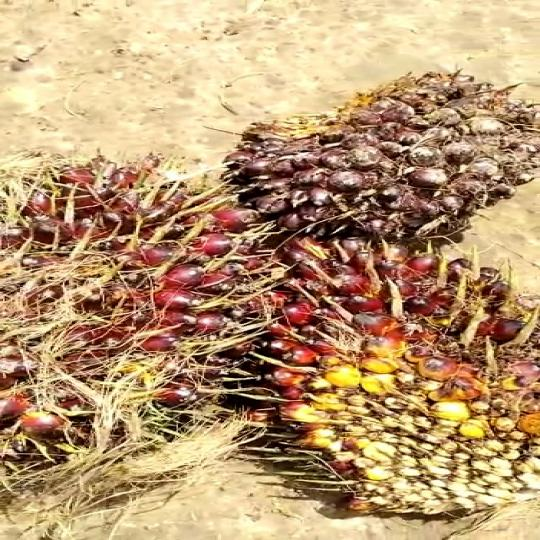kurang masak: (0, 147, 316, 488), (219, 227, 540, 540), (231, 60, 540, 268)
